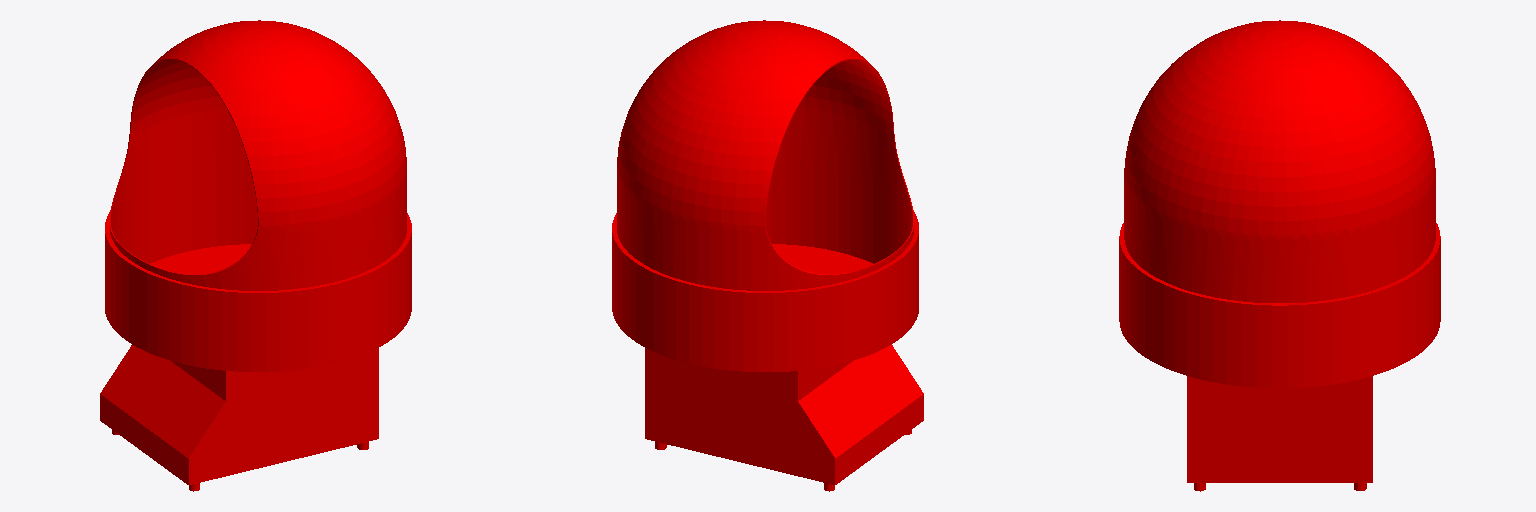
URDF robot description (CandyFlossMaker):
<?xml version="1.0" ?>
<robot name="CandyFlossMaker">
<link name="world"/>
<joint name="fixed" type="fixed">
  <parent link="world"/>
  <child  link="base_link"/>
</joint>

<link name="base_link">
  <inertial>
    <origin rpy="1.5708 0 -1.5708" xyz="0.0 0.0 0.0"/>
    <mass value="100.0"/>
    <inertia ixx="10.0" ixy="0.0" ixz="0.0" iyy="10.0" iyz="0.0" izz="10.0"/>
  </inertial>
  <visual>
    <origin rpy="1.5708 0 -1.5708" xyz="1 0 0"/>
    <geometry>
      <mesh filename="package://candy_floss/meshes/CandyFlossMaker.stl" scale="0.001 0.001 0.001"/>
    </geometry>
    <material name="silver">
      <color rgba="1 0 0 1"/>
    </material>
  </visual>
  <collision>
    <origin rpy="1.5708 0 -1.5708" xyz="0 0 0"/>
    <geometry>
      <mesh filename="package://candy_floss/meshes/CandyFlossMaker.stl"/>
    </geometry>
  </collision>
</link>
</robot>

--- Render facts (derived) ---
The picture shows the robot from 3 angles, left to right: view 1: azimuth 30°, elevation 25°; view 2: azimuth 150°, elevation 25°; view 3: azimuth 270°, elevation 25°; orthographic projection.
Robot: CandyFlossMaker — 2 links, 1 joints (1 fixed); root link world; default pose: all joints at 0.
Visible links, largest first — view 1: base_link; view 2: base_link; view 3: base_link.
Link boxes in pixels (x1,y1,x2,y2): base_link: (100, 20, 411, 491); base_link: (612, 20, 923, 491); base_link: (1119, 20, 1440, 491).
Bounding box of the posed robot: 0.5194 × 0.52 × 0.75 m (x, y, z).
Meshes: 1 distinct files referenced, 1 mesh visuals loaded (1 binary STL).